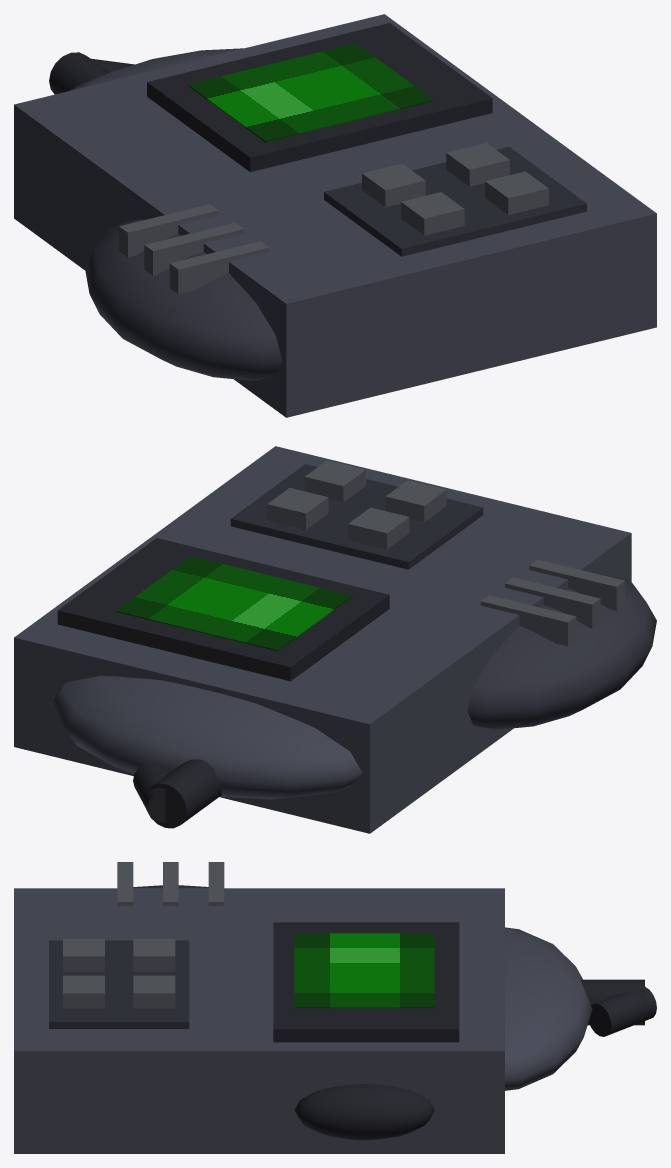
File: CMU3DUtilityCMMultitoolCloud.glb
The picture shows the model from 3 angles, top to bottom: view 1: azimuth 30°, elevation 25°; view 2: azimuth 150°, elevation 25°; view 3: azimuth 270°, elevation 25°; orthographic projection. The views are drawn at different scales.
Visible parts, largest first — view 1: central instrument casing, screen recessed bezel, rounded left shoulder, original green multitool display, lower control recessed panel, left grip rib 19.6, left grip rib 17, left grip rib 18.3, control pad 17.5 21, control pad 20 21, control pad 17.5 19, control pad 20 19 (+2 smaller); view 2: central instrument casing, tapered upper instrument shoulder, screen recessed bezel, rounded left shoulder, original green multitool display, lower control recessed panel, top probe stem, left grip rib 17, left grip rib 19.6, left grip rib 18.3, control pad 17.5 19, control pad 20 19 (+3 smaller); view 3: central instrument casing, screen recessed bezel, original green multitool display, tapered upper instrument shoulder, lower control recessed panel, right case shoulder, bent top probe tip, control pad 17.5 19, control pad 20 19, control pad 17.5 21, control pad 20 21, top probe stem (+3 smaller).
Part boxes in pixels (x1,y1,x2,y2): central instrument casing: (14, 14, 656, 417); screen recessed bezel: (147, 23, 492, 171); rounded left shoulder: (84, 219, 282, 380); original green multitool display: (187, 43, 433, 142); lower control recessed panel: (324, 147, 586, 256); left grip rib 19.6: (169, 241, 269, 294); left grip rib 17: (119, 204, 218, 257); left grip rib 18.3: (144, 222, 243, 275); control pad 17.5 21: (401, 192, 464, 235); control pad 20 21: (485, 171, 548, 214); control pad 17.5 19: (362, 163, 425, 207); control pad 20 19: (446, 143, 509, 186); central instrument casing: (14, 446, 631, 833); tapered upper instrument shoulder: (49, 675, 362, 799); screen recessed bezel: (57, 538, 389, 681); rounded left shoulder: (467, 574, 656, 729); original green multitool display: (116, 556, 352, 651); lower control recessed panel: (230, 464, 483, 569); top probe stem: (146, 759, 222, 828); left grip rib 17: (480, 595, 576, 646); left grip rib 19.6: (529, 559, 624, 610); left grip rib 18.3: (505, 577, 600, 628); control pad 17.5 19: (348, 507, 409, 549); control pad 20 19: (267, 488, 328, 529); central instrument casing: (14, 888, 504, 1153); screen recessed bezel: (273, 922, 459, 1042); original green multitool display: (294, 933, 434, 1008); tapered upper instrument shoulder: (505, 927, 592, 1090); lower control recessed panel: (49, 940, 189, 1028); right case shoulder: (294, 1084, 434, 1140); bent top probe tip: (588, 987, 656, 1036); control pad 17.5 19: (133, 938, 175, 971); control pad 20 19: (133, 975, 175, 1008); control pad 17.5 21: (63, 938, 104, 971); control pad 20 21: (63, 975, 104, 1008); top probe stem: (581, 979, 644, 1025).
Size of the model in its own units: 0.4531 by 0.123 by 0.5731.
Materials: 6 (1 with a texture image).
